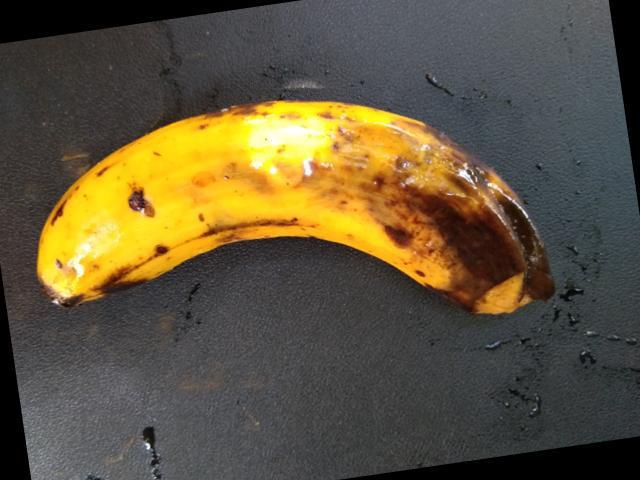overripe: (30, 81, 379, 340)
rotten: (328, 106, 580, 337)
